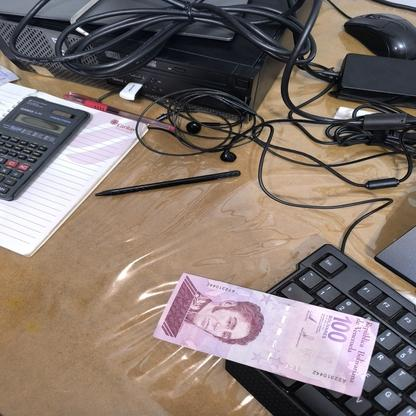vef_front: (152, 272, 379, 398)
